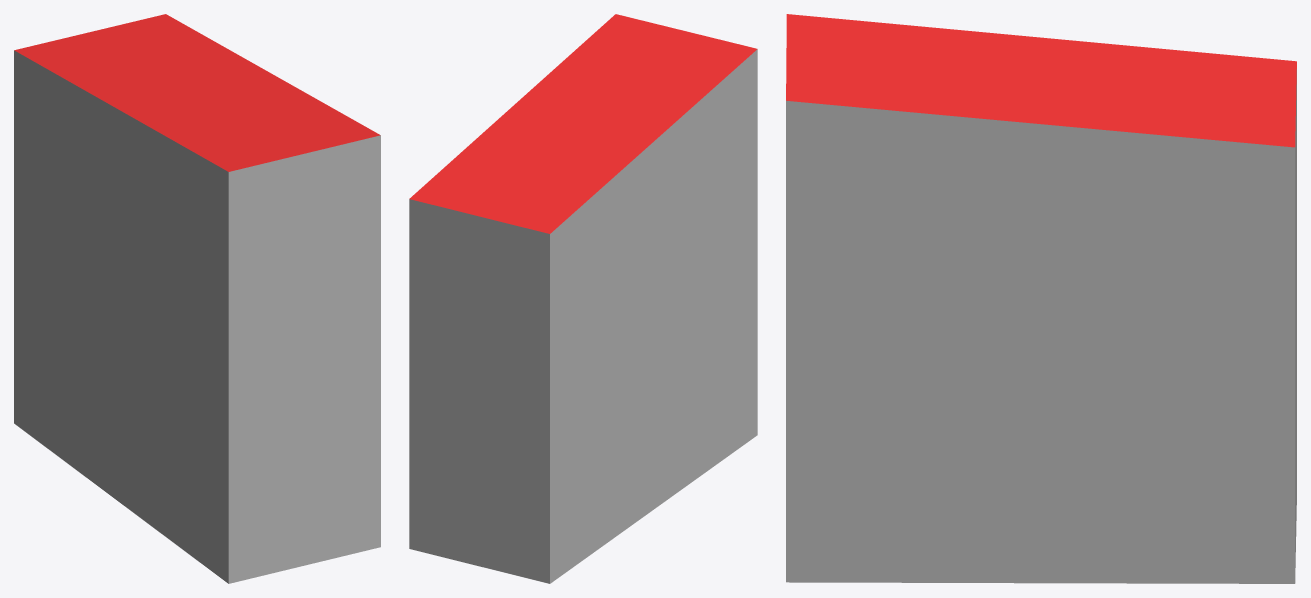
File: DEBE3D04YY50002cnG.dae
3 views of the same model, side by side, from view 1: azimuth 30°, elevation 25°; view 2: azimuth 150°, elevation 25°; view 3: azimuth 270°, elevation 25° (orthographic). The views are drawn at different scales.
Size of the model in its own units: 2.04 by 5.01 by 5.21.
